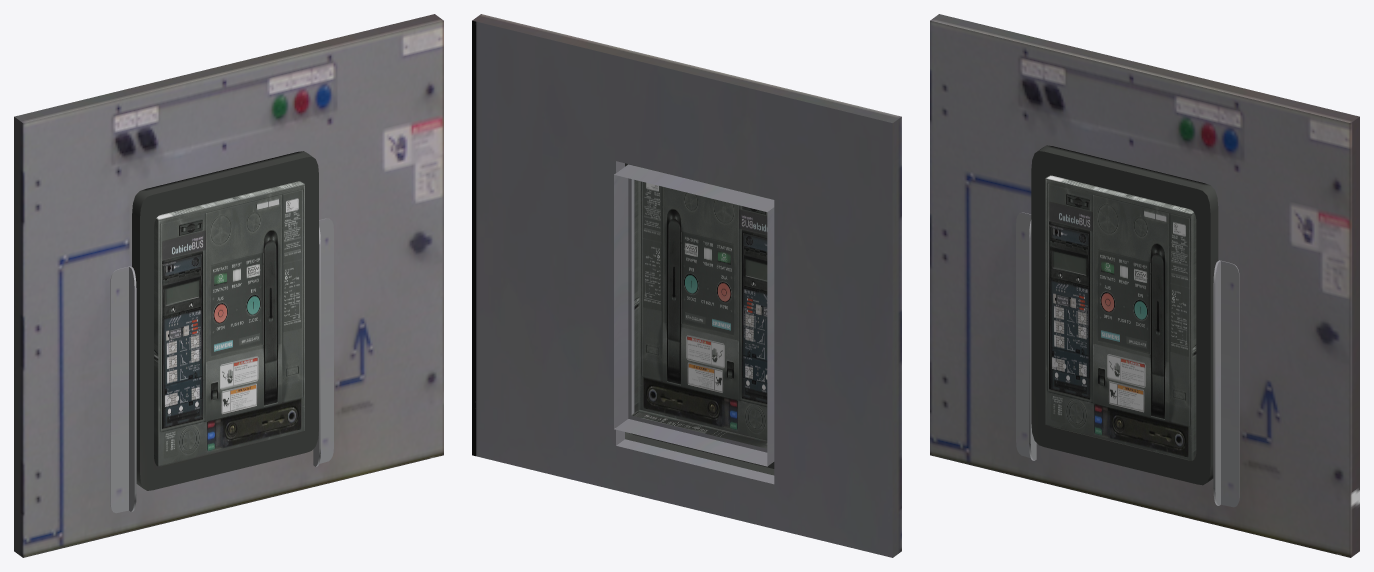
Rendered from TYZLV_COMPT.fbx.
3 renders of one model, left to right at view 1: azimuth 30°, elevation 25°; view 2: azimuth 150°, elevation 25°; view 3: azimuth 330°, elevation 25°, orthographic.
Visible parts, largest first — view 1: Box018; view 2: Box018; view 3: Box018.
Boxes of the visible parts, x1,y1,x2,y2 form: Box018: (14, 14, 443, 557); Box018: (472, 14, 901, 557); Box018: (930, 14, 1359, 557).
Size of the model in its own units: 0.2194 by 0.2167 by 0.0203.
1 material, 1 textured.
